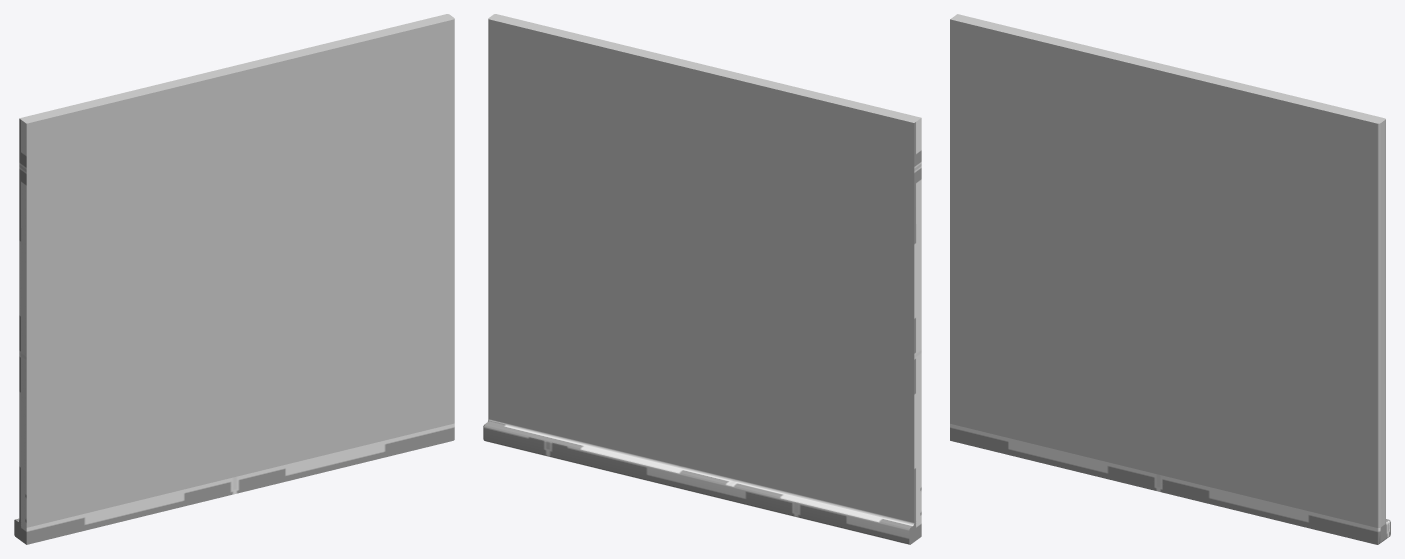
File: insidewall.fbx
3 renders of one model, left to right at view 1: azimuth 30°, elevation 25°; view 2: azimuth 150°, elevation 25°; view 3: azimuth 330°, elevation 25°, orthographic.
Visible parts, largest first — view 1: Wall_StairLeft__2_; view 2: Wall_StairLeft__2_; view 3: Wall_StairLeft__2_.
Part boxes in pixels (box(x1,y1,x2,y2)): Wall_StairLeft__2_: box(14, 14, 454, 544); Wall_StairLeft__2_: box(483, 14, 921, 544); Wall_StairLeft__2_: box(950, 14, 1390, 544).
Bounding box in the file's own units: 16.82 × 15.78 × 0.8407.
2 materials, 1 textured.
